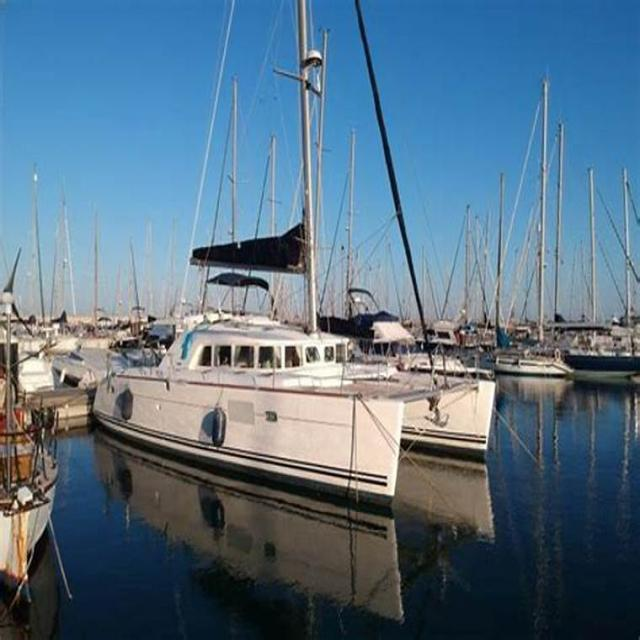houseboat: (76, 302, 395, 510)
